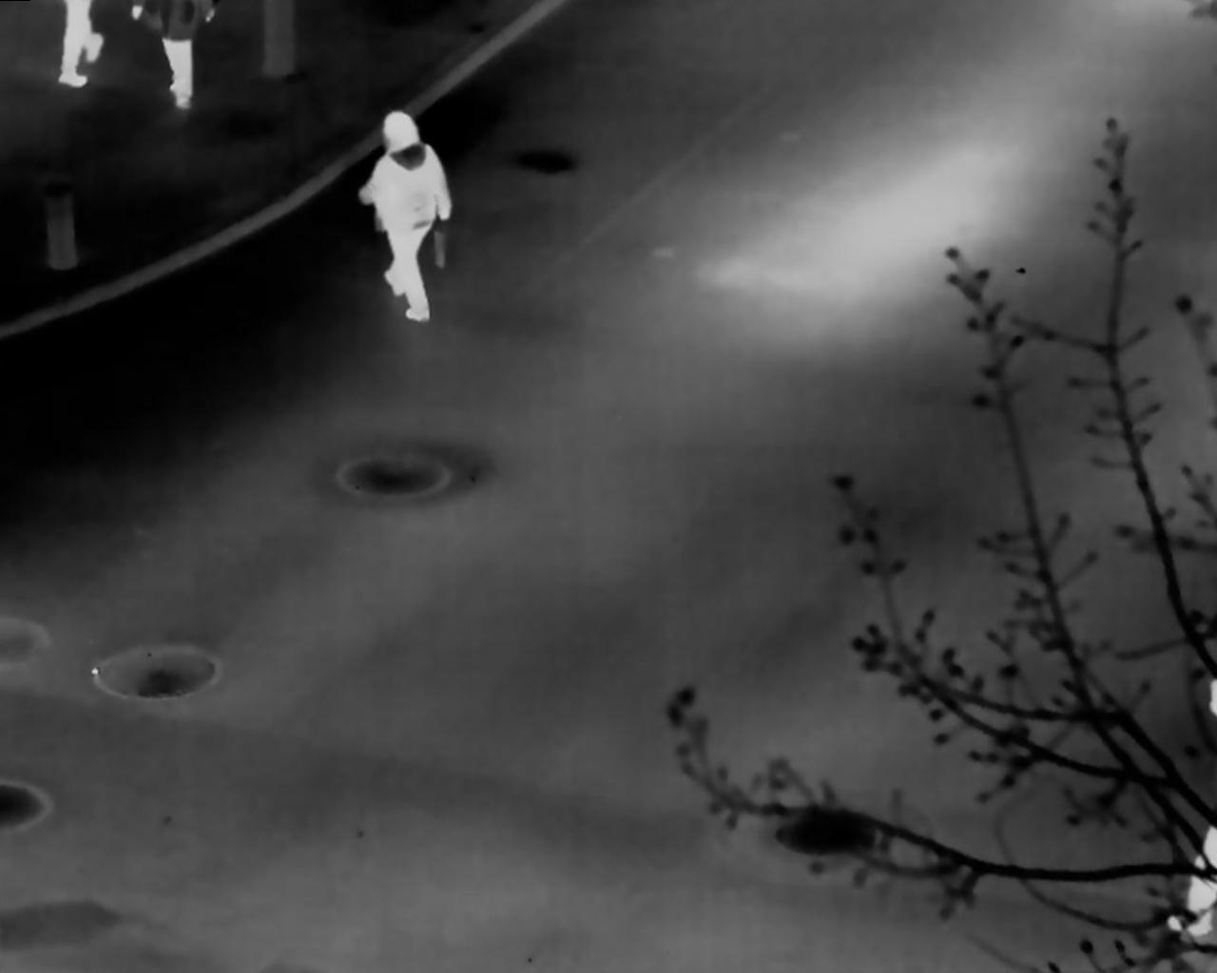person: (359, 110, 452, 322), (127, 3, 219, 109)
